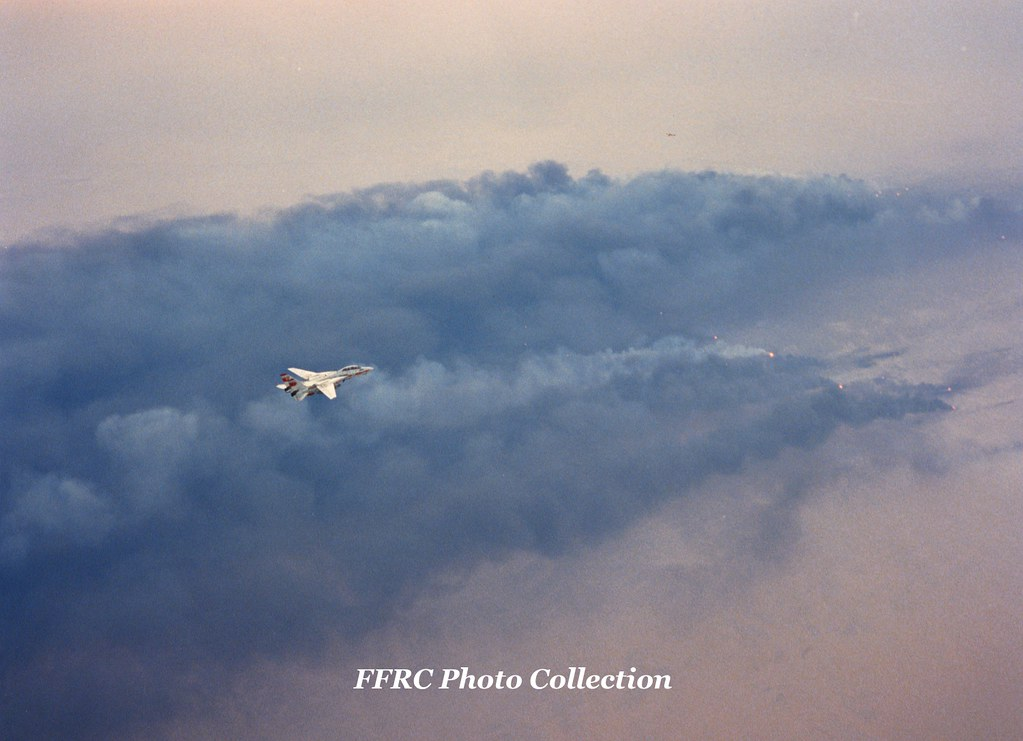F14: (275, 364, 375, 402)
